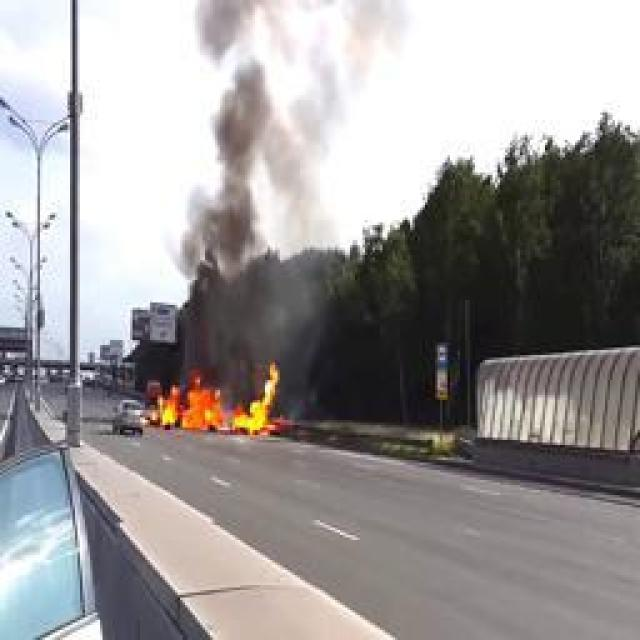Fire: (156, 366, 282, 432)
